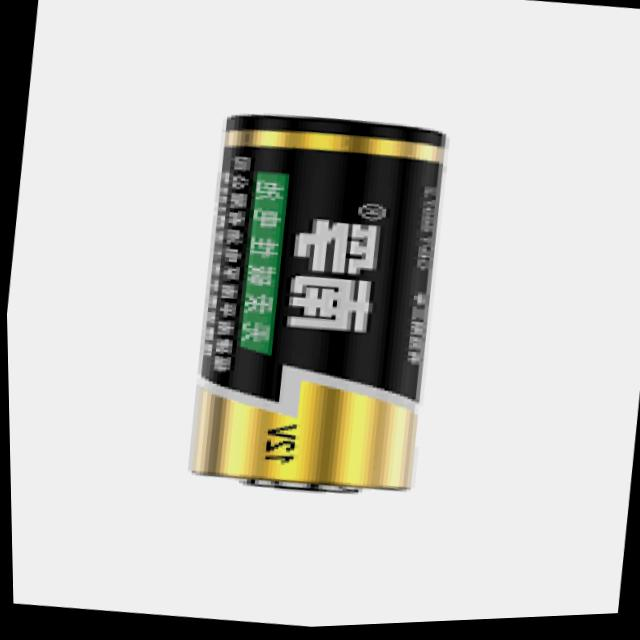B3: (140, 93, 473, 523)
